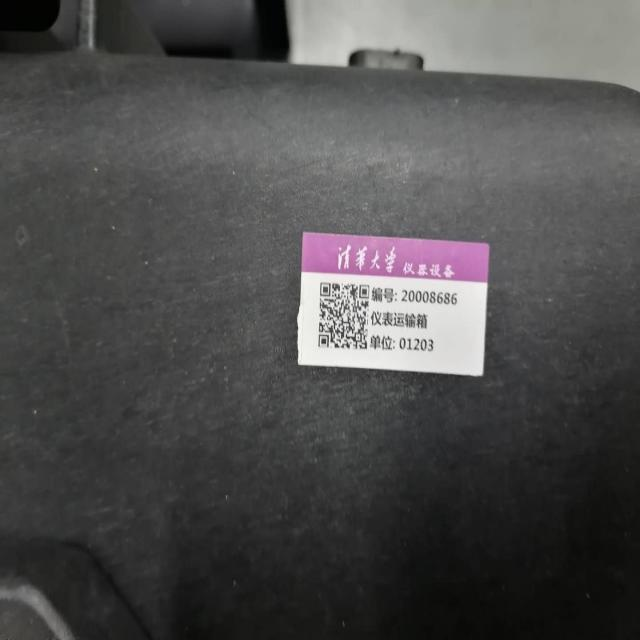qr_code: (319, 282, 370, 350)
